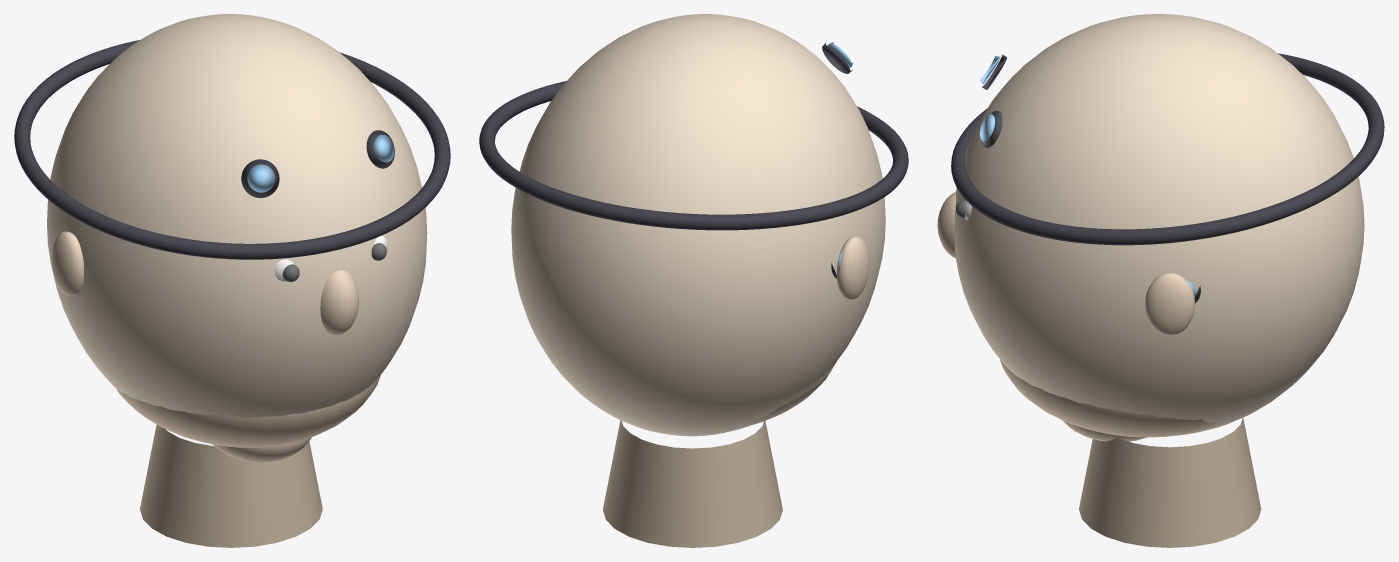
The model's file is head_with_muse.glb.
3 views of the same model, side by side, from view 1: azimuth 30°, elevation 25°; view 2: azimuth 150°, elevation 25°; view 3: azimuth 270°, elevation 25° (orthographic).
Visible parts, largest first — view 1: Head, Neck, MuseHeadband, Jaw, Nose, EarL, Chin, AF7, AF7_Mount; view 2: Head, Neck, MuseHeadband, EarL, Jaw; view 3: Head, Neck, MuseHeadband, Jaw, EarR, Nose.
Part boxes in pixels (bbox=[...]): Head: bbox=[47, 14, 427, 417]; Neck: bbox=[140, 424, 322, 547]; MuseHeadband: bbox=[14, 40, 450, 259]; Jaw: bbox=[116, 375, 380, 447]; Nose: bbox=[320, 270, 359, 335]; EarL: bbox=[51, 231, 83, 296]; Chin: bbox=[213, 437, 311, 462]; AF7: bbox=[247, 164, 275, 192]; AF7_Mount: bbox=[241, 159, 279, 197]; Head: bbox=[511, 14, 885, 436]; Neck: bbox=[603, 420, 782, 547]; MuseHeadband: bbox=[479, 81, 908, 230]; EarL: bbox=[837, 236, 869, 300]; Jaw: bbox=[744, 362, 836, 427]; Head: bbox=[954, 14, 1364, 435]; Neck: bbox=[1079, 418, 1261, 547]; MuseHeadband: bbox=[951, 53, 1384, 245]; Jaw: bbox=[1000, 359, 1216, 437]; EarR: bbox=[1145, 272, 1194, 335]; Nose: bbox=[937, 192, 955, 258].
Size of the model in its own units: 1.91 by 2.32 by 1.96.
